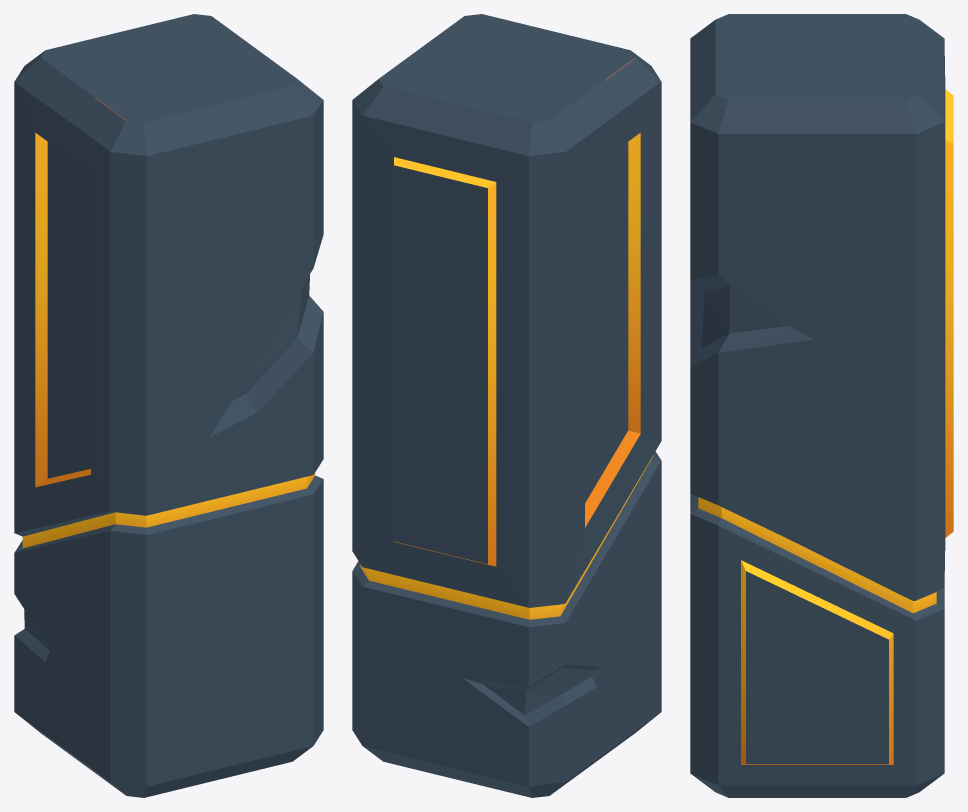
File: SM_APP_Alien_blockA.glb
3 views of the same model, side by side, from view 1: azimuth 30°, elevation 25°; view 2: azimuth 150°, elevation 25°; view 3: azimuth 270°, elevation 25° (orthographic). The views are drawn at different scales.
Parts seen in each view (by area): view 1: SM_APP_Alien_blockA; view 2: SM_APP_Alien_blockA; view 3: SM_APP_Alien_blockA.
Boxes of the visible parts, <box> form: SM_APP_Alien_blockA: <box>14,14,323,797</box>; SM_APP_Alien_blockA: <box>352,14,661,797</box>; SM_APP_Alien_blockA: <box>690,14,953,797</box>.
Bounding box in the file's own units: 3.64 × 10.63 × 3.63.
1 material, 1 textured.
